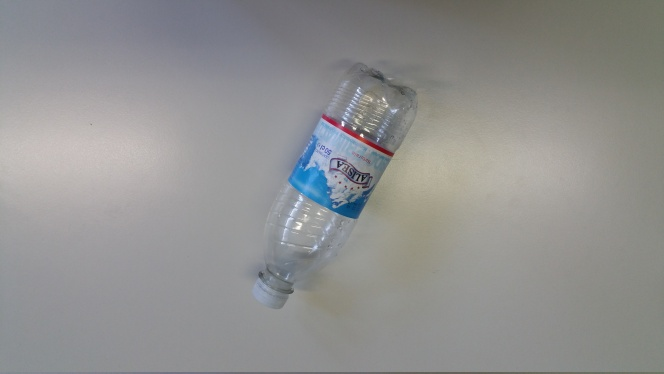bottle: (245, 58, 419, 312)
